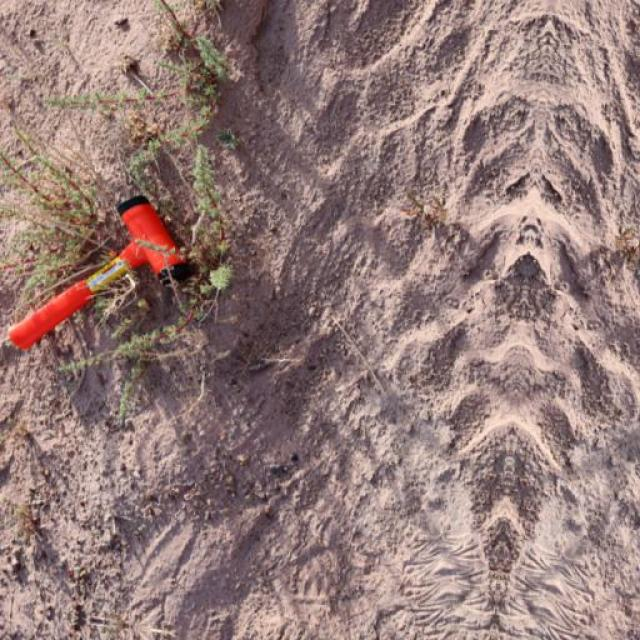mallet: (4, 192, 192, 352)
